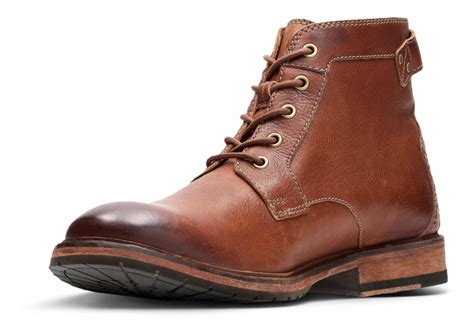cuero: (60, 16, 441, 277)
